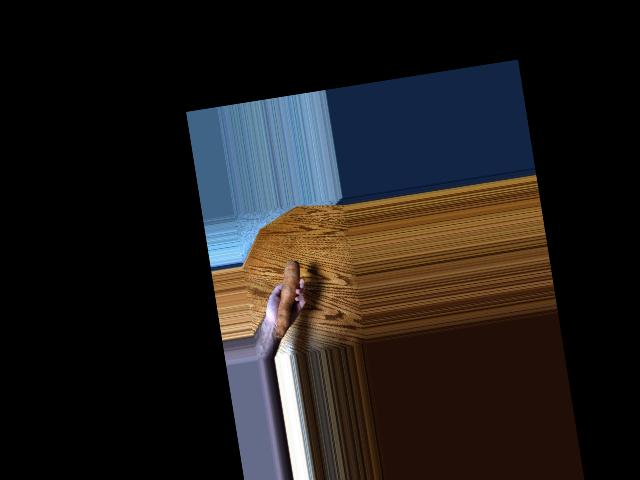sweet_potato: (264, 258, 311, 337)
